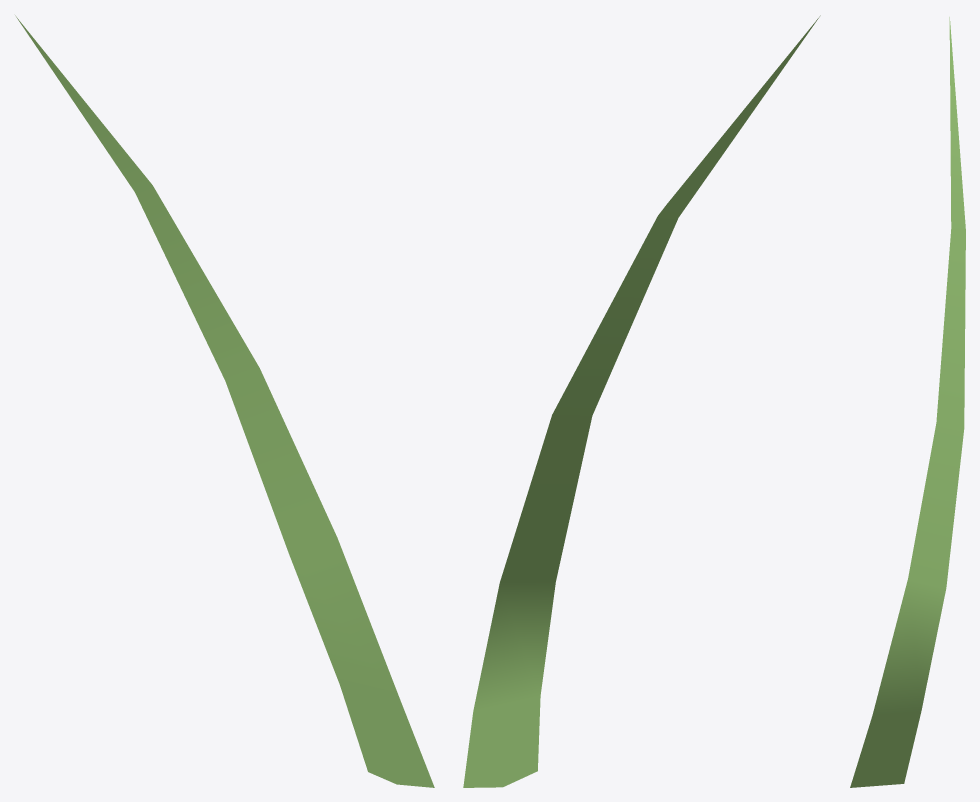
The picture shows the model from 3 angles, left to right: view 1: azimuth 30°, elevation 25°; view 2: azimuth 150°, elevation 25°; view 3: azimuth 270°, elevation 25°; orthographic projection. The views are drawn at different scales.
Parts seen in each view (by area): view 1: brush_Spikes_g0_b0_0; view 2: brush_Spikes_g0_b0_0; view 3: brush_Spikes_g0_b0_0.
Boxes of the visible parts, left/top/right/bottom form: brush_Spikes_g0_b0_0: left=15, top=15, right=434, bottom=787; brush_Spikes_g0_b0_0: left=463, top=15, right=820, bottom=787; brush_Spikes_g0_b0_0: left=850, top=17, right=965, bottom=787.
Bounding box in the file's own units: 0.4018 × 0.88 × 0.1444.
